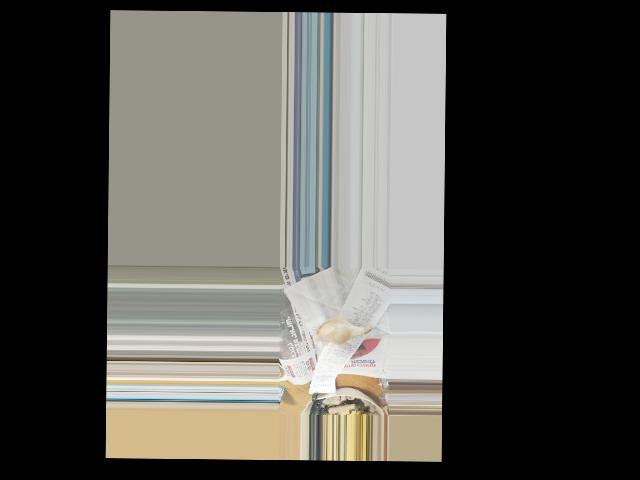onion: (317, 319, 359, 342)
